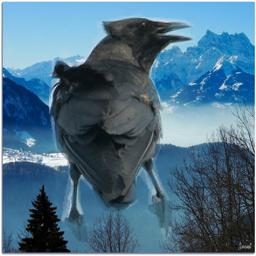Crow: (49, 10, 195, 242)
